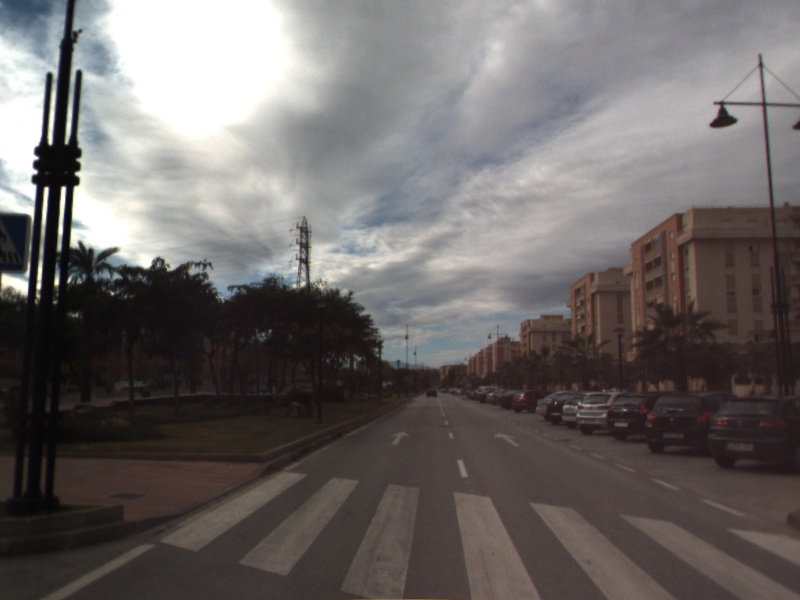STRAIGHT: (492, 430, 521, 448), (388, 429, 412, 446)
